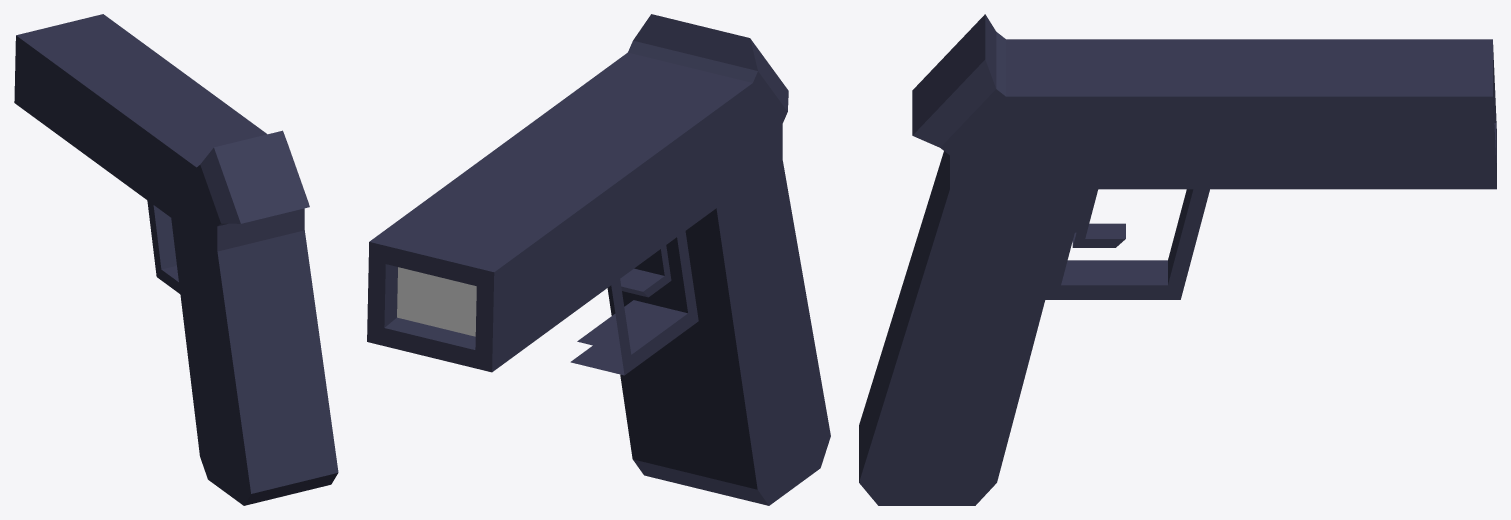
File: pistol.fbx
3 views of the same model, side by side, from view 1: azimuth 30°, elevation 25°; view 2: azimuth 150°, elevation 25°; view 3: azimuth 270°, elevation 25° (orthographic). The views are drawn at different scales.
Parts seen in each view (by area): view 1: Cube; view 2: Cube; view 3: Cube.
Boxes of the visible parts, left/top/right/bottom form: Cube: left=14, top=14, right=338, bottom=505; Cube: left=367, top=14, right=830, bottom=505; Cube: left=859, top=14, right=1496, bottom=505.
Size of the model in its own units: 68.04 by 243 by 319.
